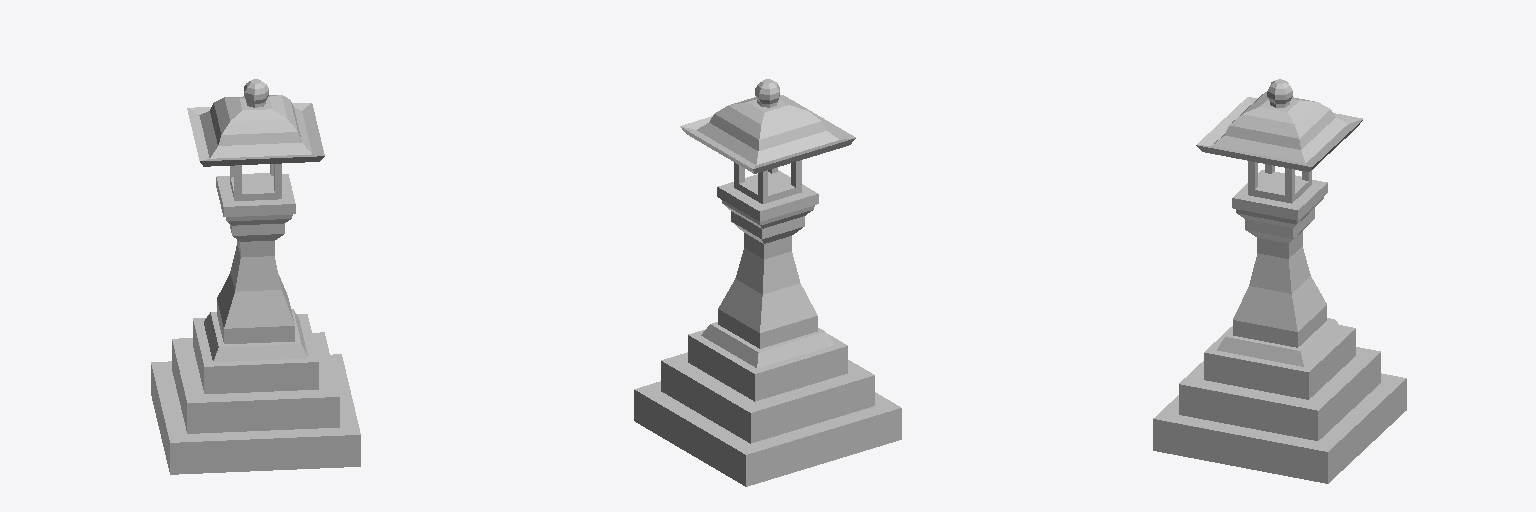
File: lantern.obj
3 views of the same model, side by side, from view 1: azimuth 30°, elevation 25°; view 2: azimuth 150°, elevation 25°; view 3: azimuth 270°, elevation 25° (orthographic).
Parts seen in each view (by area): view 1: Laterne_eckig; view 2: Laterne_eckig; view 3: Laterne_eckig.
Boxes of the visible parts, <box> form: Laterne_eckig: <box>151,79,360,474</box>; Laterne_eckig: <box>634,79,901,486</box>; Laterne_eckig: <box>1153,79,1406,483</box>.
Bounding box in the file's own units: 5.53 × 8.4 × 5.53.